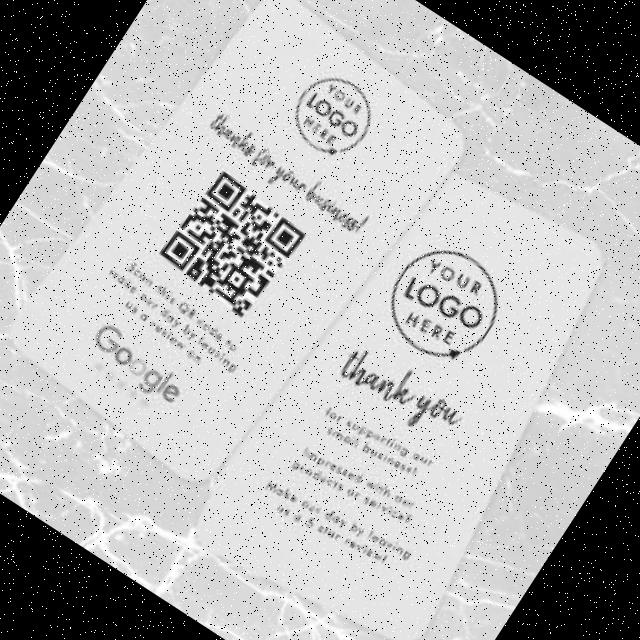QR-codes: (154, 165, 312, 324)
